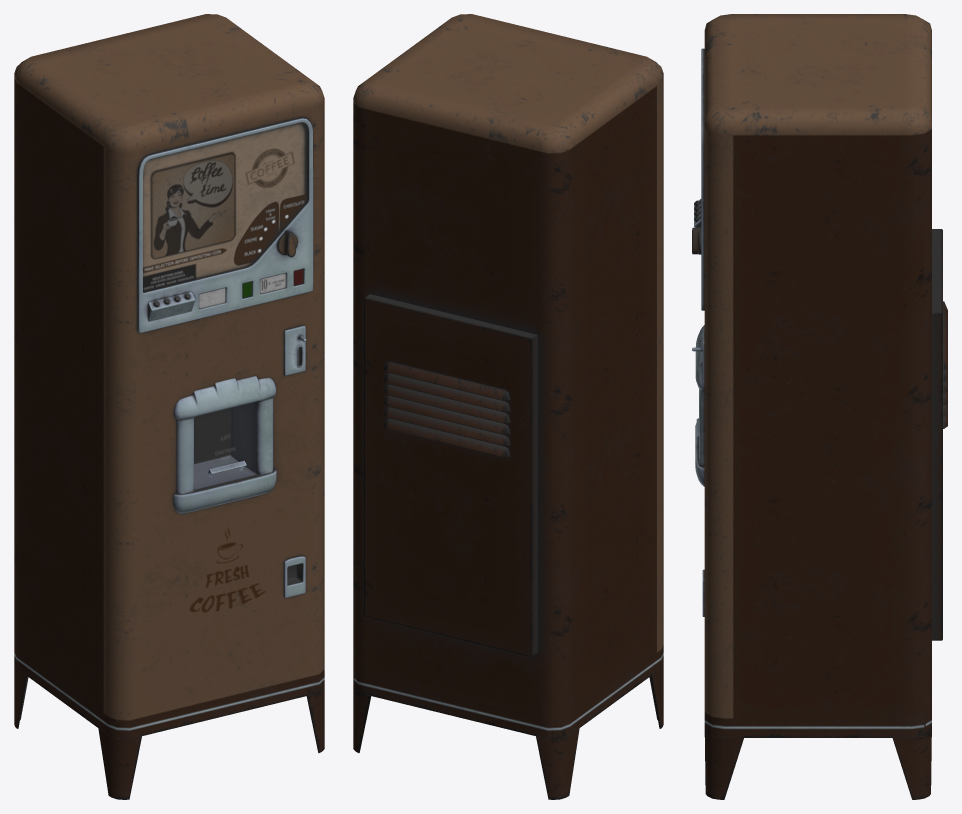
Rendered from old_caffee.glb.
The picture shows the model from 3 angles, left to right: view 1: azimuth 30°, elevation 25°; view 2: azimuth 150°, elevation 25°; view 3: azimuth 270°, elevation 25°; orthographic projection. The views are drawn at different scales.
Parts seen in each view (by area): view 1: Cube.001_0, Plane.001_3; view 2: Cube.001_0; view 3: Cube.001_0.
Boxes of the visible parts, <box> form: Cube.001_0: <box>14,14,324,799</box>; Plane.001_3: <box>150,151,236,258</box>; Cube.001_0: <box>353,14,663,799</box>; Cube.001_0: <box>692,14,947,799</box>.
Size of the model in its own units: 0.55 by 1.63 by 0.5528.
Materials: 2 (1 with a texture image).
